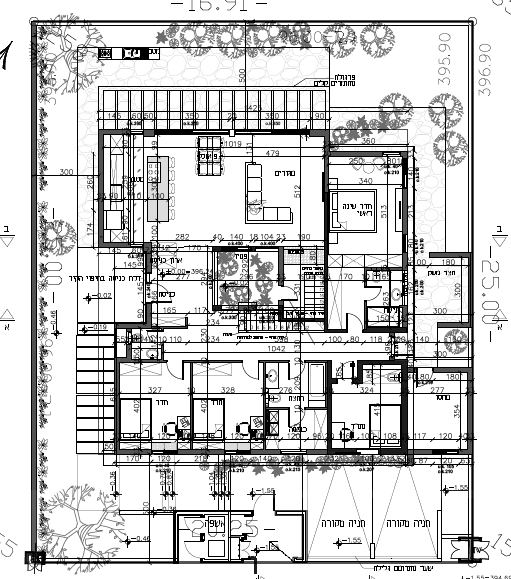door: (164, 361, 187, 381), (240, 364, 263, 384), (284, 364, 307, 384), (285, 410, 308, 430), (280, 283, 303, 303), (363, 283, 386, 303), (341, 313, 364, 333)
wall: (98, 128, 105, 248), (401, 358, 408, 451), (467, 366, 474, 459), (429, 252, 470, 257)
window: (188, 128, 231, 136), (231, 128, 274, 136), (149, 447, 179, 458), (281, 447, 311, 458), (356, 446, 386, 457), (431, 448, 461, 459), (223, 447, 252, 458), (128, 127, 146, 139), (128, 240, 145, 249)
